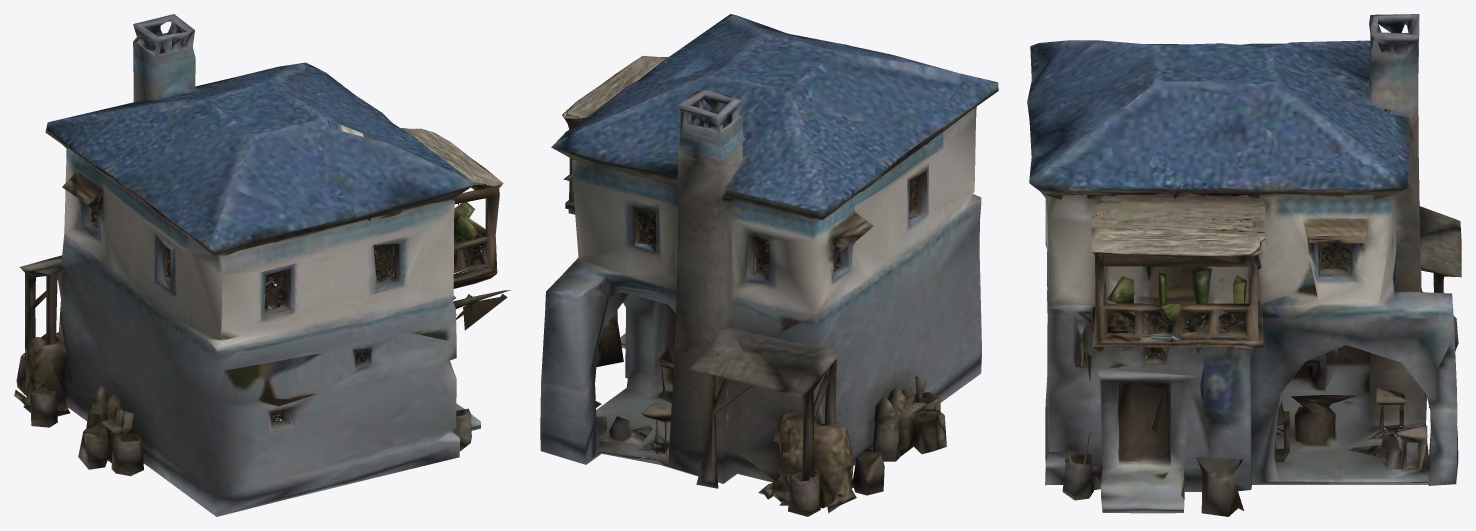
File: house_craftsman_1.glb
3 renders of one model, left to right at view 1: azimuth 30°, elevation 25°; view 2: azimuth 150°, elevation 25°; view 3: azimuth 270°, elevation 25°, orthographic. The views are drawn at different scales.
Visible parts, largest first — view 1: house_craftsman_1; view 2: house_craftsman_1; view 3: house_craftsman_1.
Boxes of the visible parts, box(x1,y1,x2,y2) form: house_craftsman_1: box(14, 14, 510, 516); house_craftsman_1: box(540, 14, 998, 516); house_craftsman_1: box(1027, 14, 1461, 516).
Bounding box in the file's own units: 0.9685 × 0.9 × 0.9131.
Materials: 1 (1 with a texture image).
